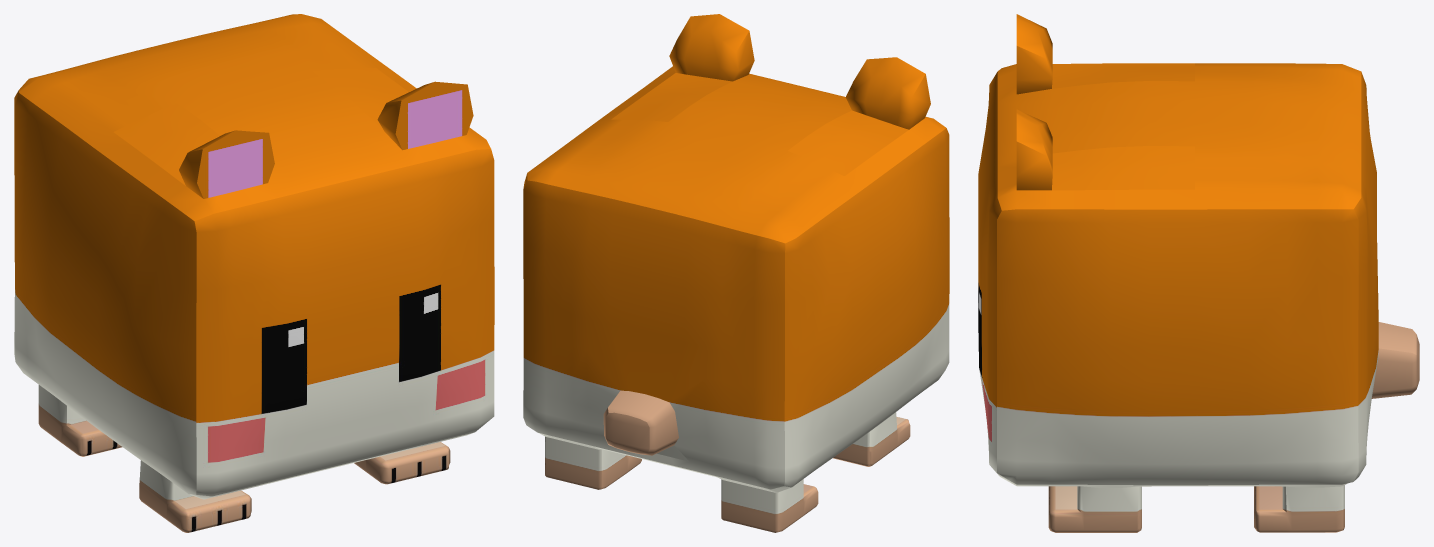
The model's file is Eat Hamster.fbx.
The picture shows the model from 3 angles, left to right: view 1: azimuth 30°, elevation 25°; view 2: azimuth 150°, elevation 25°; view 3: azimuth 270°, elevation 25°; orthographic projection. The views are drawn at different scales.
Visible parts, largest first — view 1: polySurface1; view 2: polySurface1; view 3: polySurface1.
Boxes of the visible parts, bbox=[...] form: polySurface1: bbox=[14, 14, 494, 532]; polySurface1: bbox=[523, 14, 949, 532]; polySurface1: bbox=[978, 14, 1419, 532].
Size of the model in its own units: 4.23 by 4.85 by 4.81.
